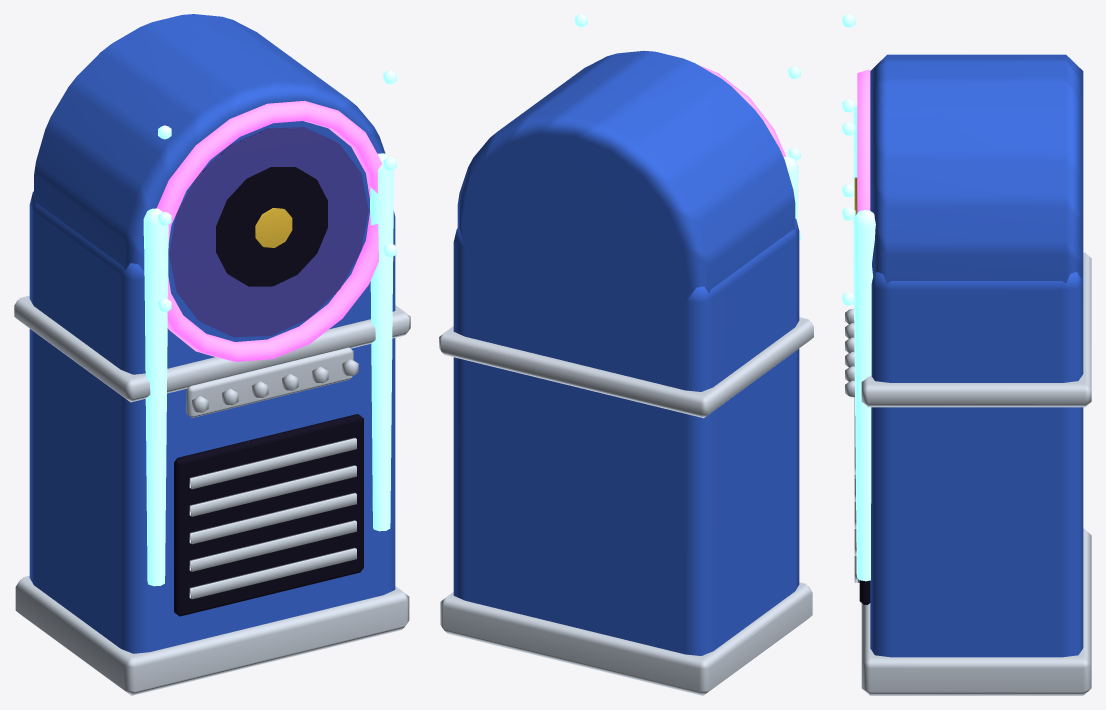
File: jukebox.glb
3 views of the same model, side by side, from view 1: azimuth 30°, elevation 25°; view 2: azimuth 150°, elevation 25°; view 3: azimuth 270°, elevation 25° (orthographic). The views are drawn at different scales.
Visible parts, largest first — view 1: Box, Bubbles.001; view 2: Box; view 3: Box, Bubbles.001.
Part boxes in pixels (x1,y1,x2,y2): Box: [14, 14, 410, 695]; Bubbles.001: [158, 70, 396, 312]; Box: [439, 50, 813, 695]; Box: [845, 54, 1091, 695]; Bubbles.001: [842, 14, 855, 305].
Bounding box in the file's own units: 0.76 × 1.46 × 0.5856.
